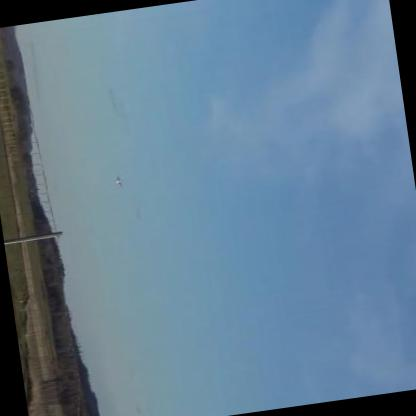plane: (111, 174, 122, 189)
